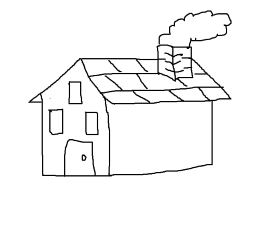door: (63, 135, 97, 181)
open_window: (77, 107, 110, 136), (43, 105, 70, 137), (60, 79, 88, 107)
roof: (18, 51, 234, 109)
smoking_chimney: (151, 5, 243, 82)
wall: (104, 96, 216, 176)
